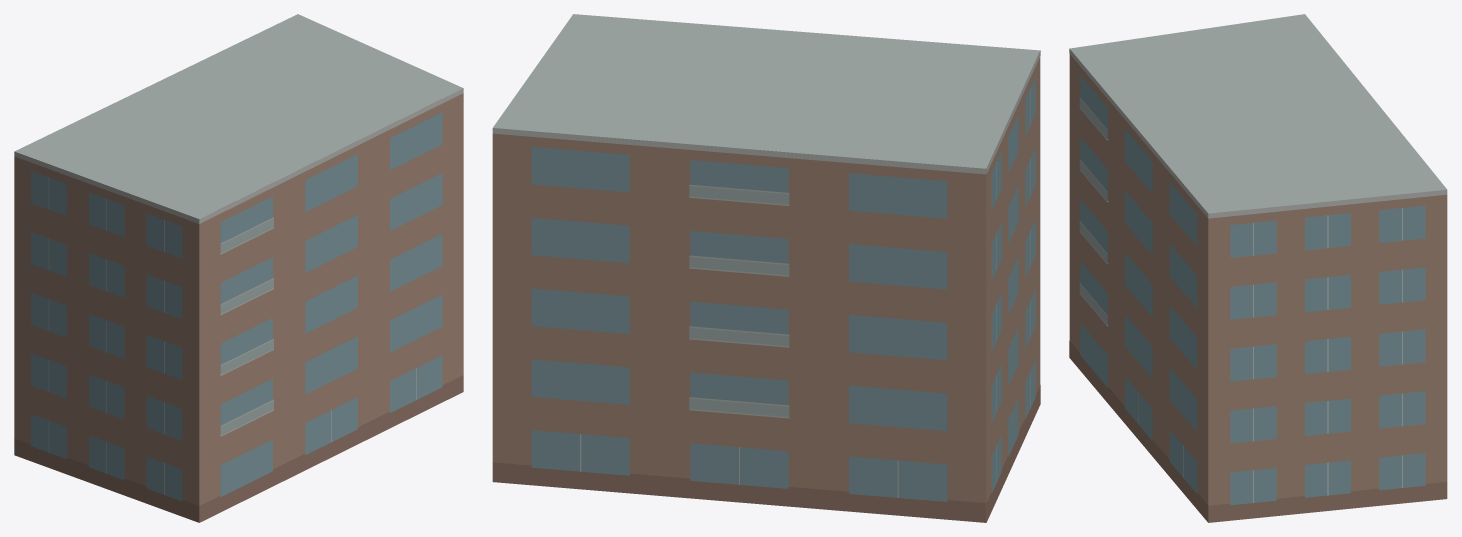
Rendered from survey-upis-32648447.glb.
3 views of the same model, side by side, from view 1: azimuth 30°, elevation 25°; view 2: azimuth 150°, elevation 25°; view 3: azimuth 270°, elevation 25° (orthographic). The views are drawn at different scales.
Parts seen in each view (by area): view 1: survey-upis-32648447.tmp; view 2: survey-upis-32648447.tmp; view 3: survey-upis-32648447.tmp.
Boxes of the visible parts, x1,y1,x2,y2 form: survey-upis-32648447.tmp: [14, 14, 463, 522]; survey-upis-32648447.tmp: [492, 14, 1040, 522]; survey-upis-32648447.tmp: [1069, 14, 1447, 522].
Size of the model in its own units: 21.12 by 15.25 by 16.9.
